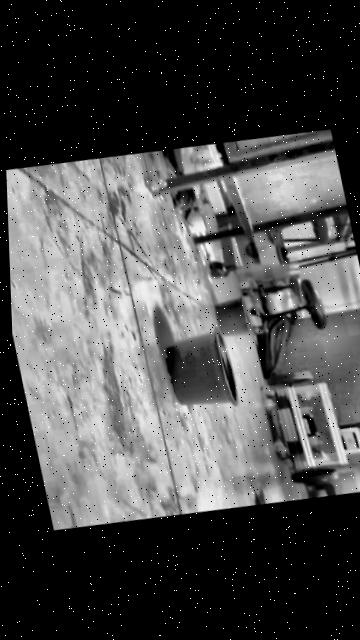pot: (160, 322, 241, 414), (212, 294, 254, 339)
